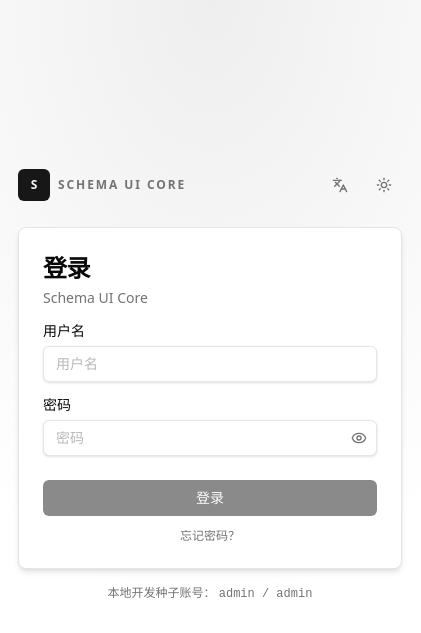
S2 · fixed UI chrome (C1) › maps stable login error codes to localized text
Type "alice" into the field named "username" at (210, 364), box x1=43 y1=346 x2=377 y2=382
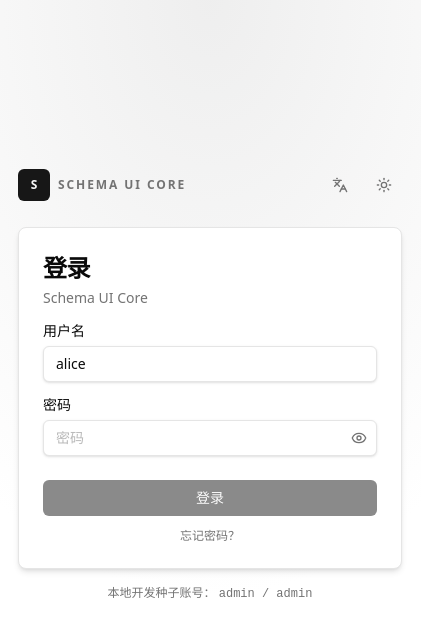
Type "secret" into the password field named "password" at (210, 438), box x1=43 y1=420 x2=377 y2=456
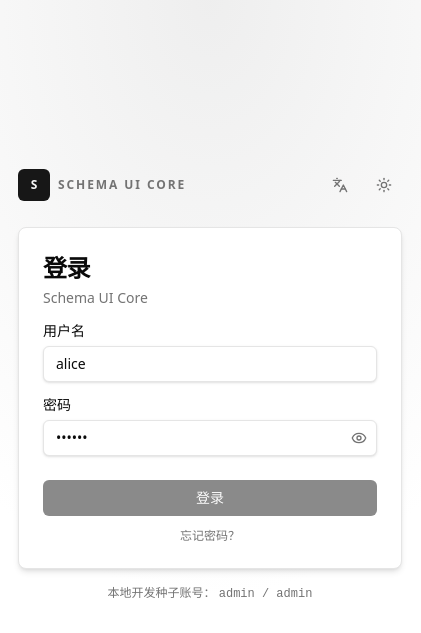
Submit the form, box x1=19 y1=228 x2=401 y2=568
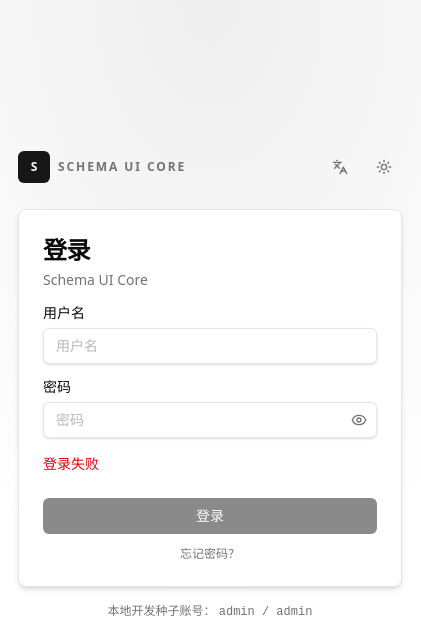
Result: the message "登录失败" is shown at x1=43 y1=454 x2=99 y2=472
